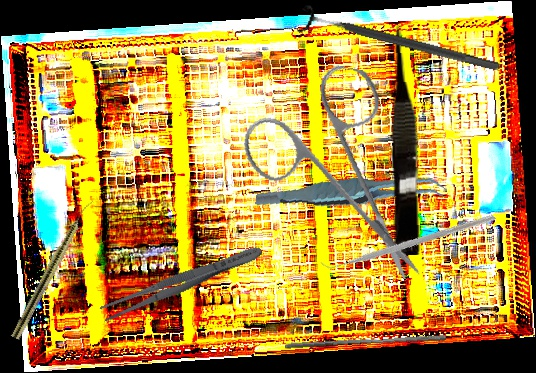Chopper: (316, 147, 497, 331)
Dressing Forceps: (98, 240, 266, 325)
Fixation Ring: (295, 2, 504, 83)
Handpiece: (10, 196, 95, 342)
Iris Scissors: (221, 49, 460, 282)
Micro Scissor: (386, 22, 425, 256)
Pusher: (284, 329, 447, 355)
Tissue Forceps: (254, 151, 447, 235)
